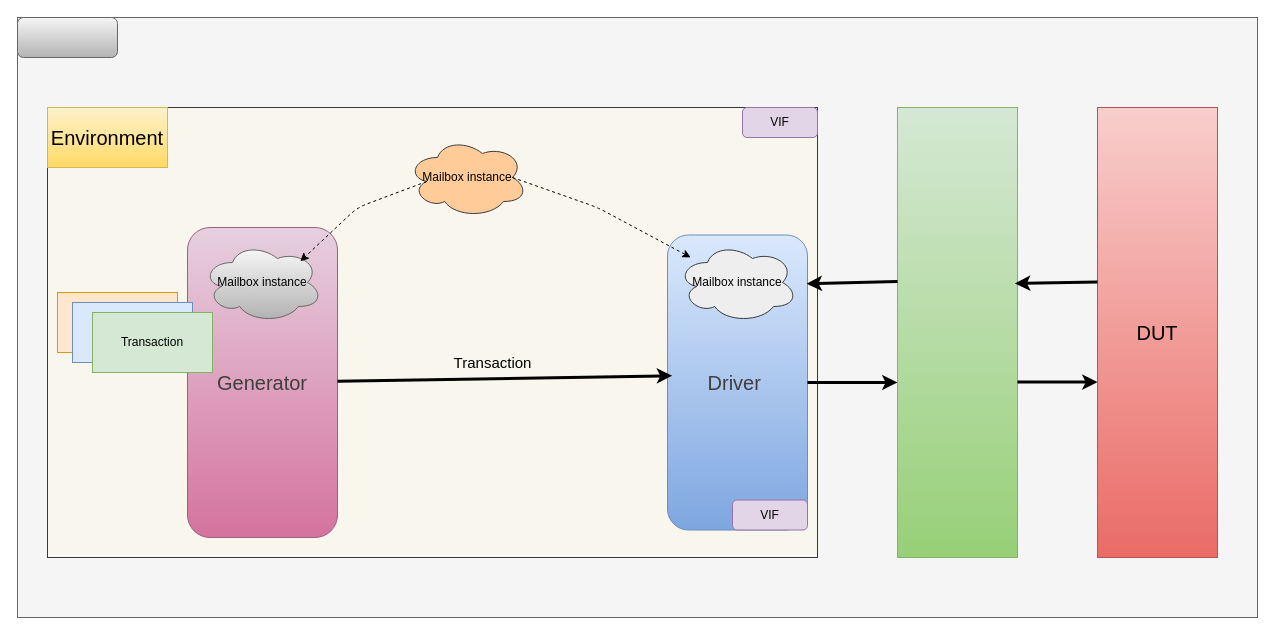
Some shapes in this 1275 by 635 pixel diagram are drawn without their labels. The shapes that lost their labels are listed below. From the top down, each one's centre as x and y in pixels, then its label:
the point at 67,37: Test_bench
the point at 957,332: INTERFACE
